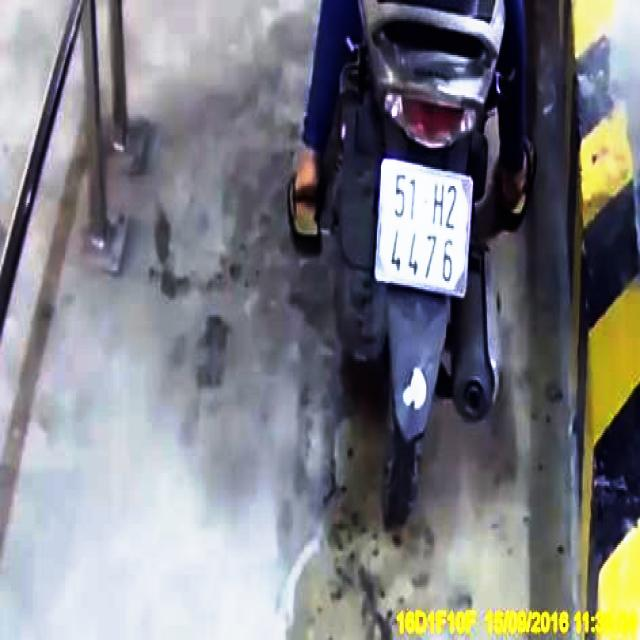license_plate: (375, 157, 477, 297)
